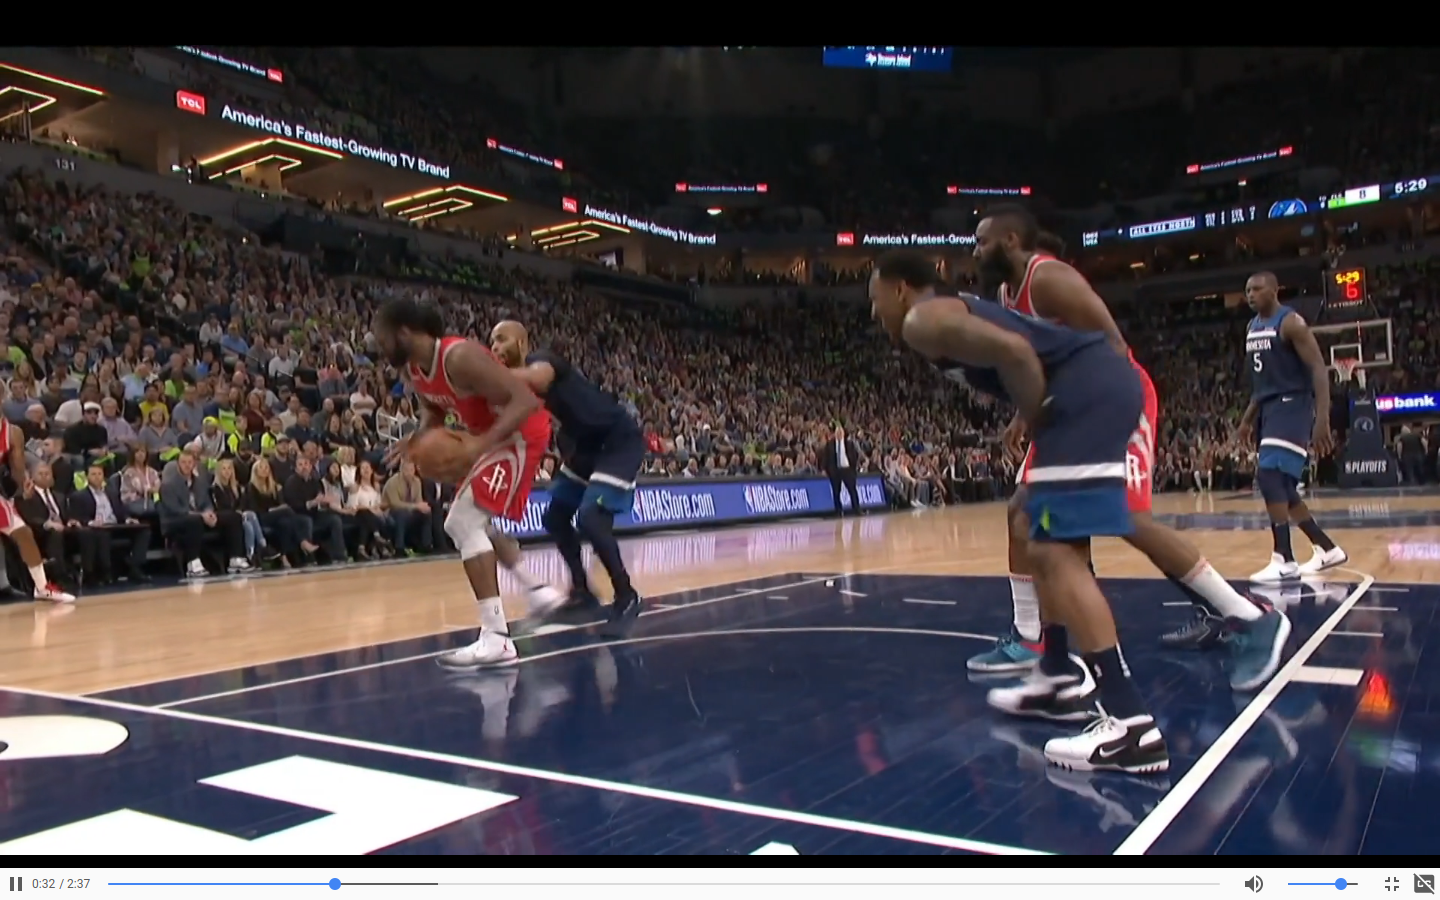ball: (411, 438, 463, 489)
player: (878, 262, 1162, 778), (386, 331, 554, 687), (497, 309, 651, 648), (1226, 282, 1352, 597)
